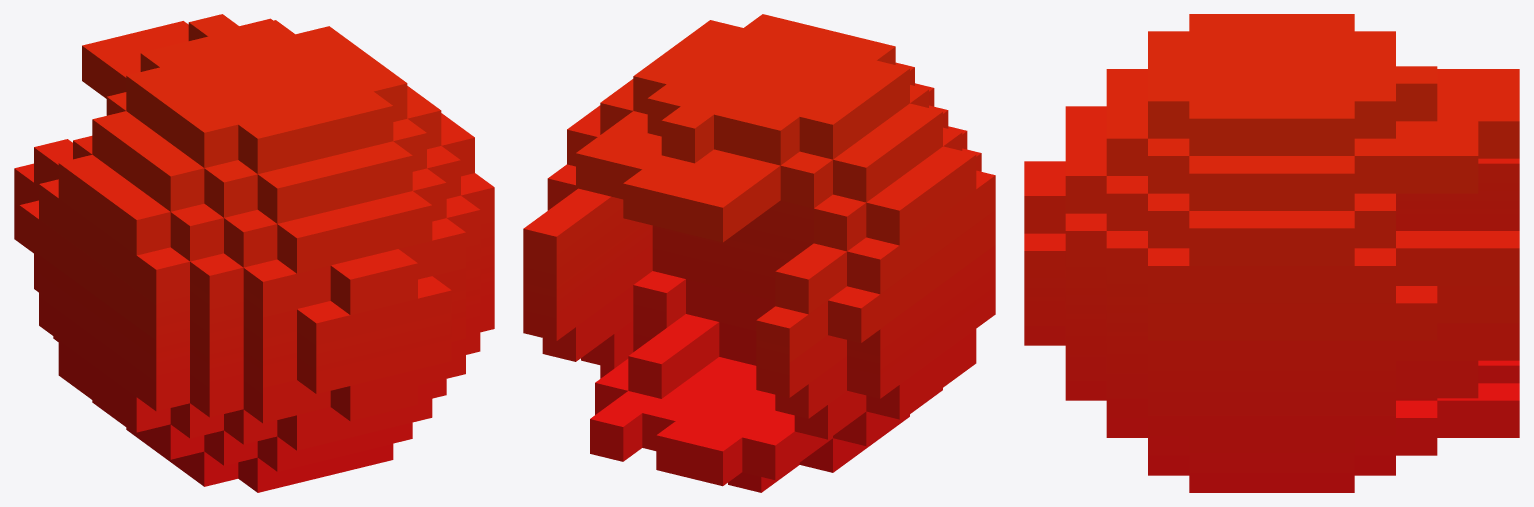
Rendered from Bullet.fbx.
3 renders of one model, left to right at view 1: azimuth 30°, elevation 25°; view 2: azimuth 150°, elevation 25°; view 3: azimuth 270°, elevation 25°, orthographic. The views are drawn at different scales.
Parts seen in each view (by area): view 1: Bullet; view 2: Bullet; view 3: Bullet.
Part boxes in pixels (<box>): Bullet: <box>14,14,494,492</box>; Bullet: <box>523,14,995,492</box>; Bullet: <box>1024,14,1519,492</box>.
Bounding box in the file's own units: 10 × 10 × 12.
Materials: 1 (1 with a texture image).
